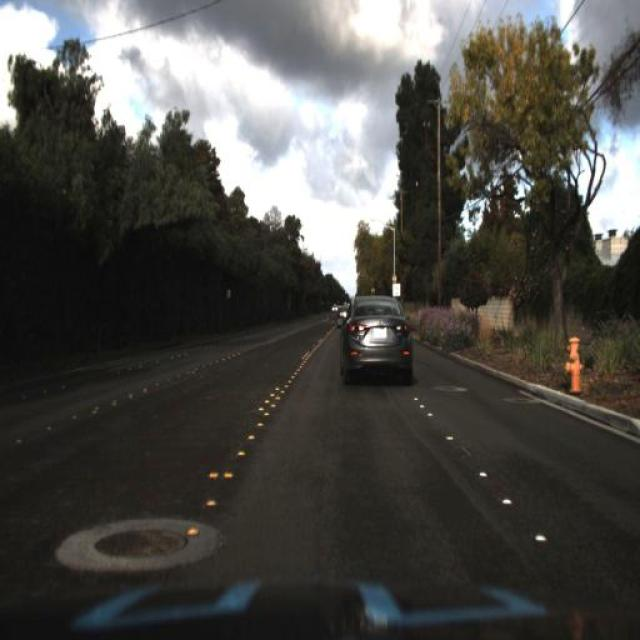car: (343, 291, 415, 384)
